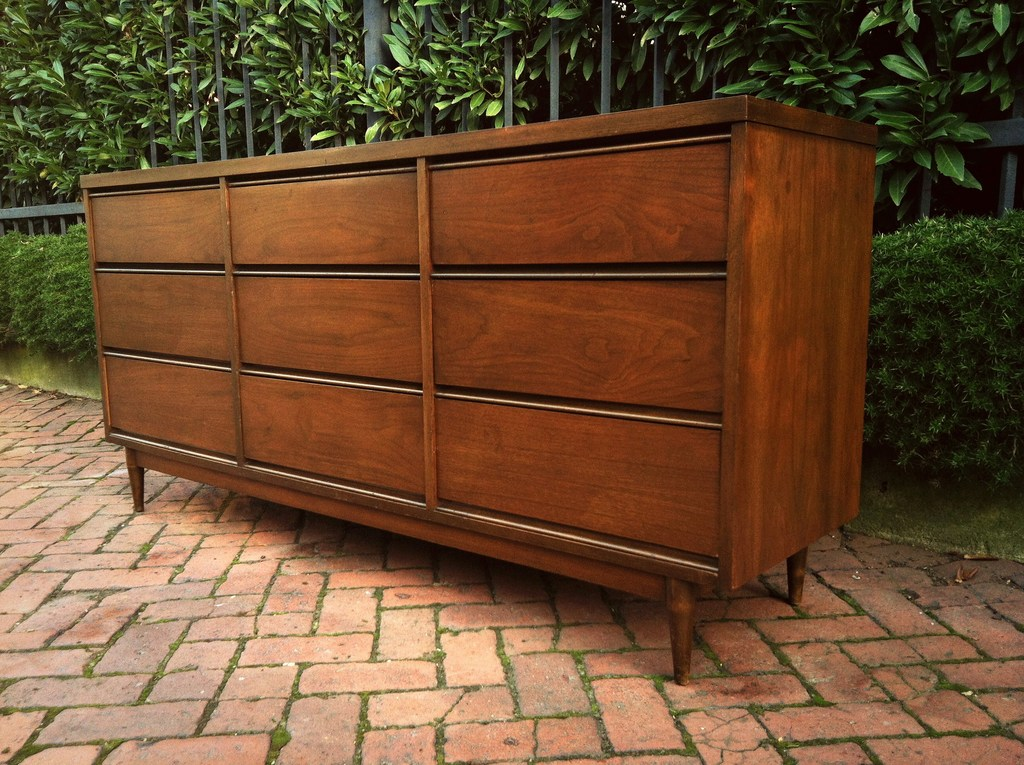cabinet door: (443, 396, 726, 536), (435, 286, 726, 401), (432, 161, 725, 261), (242, 375, 430, 463), (247, 283, 416, 359), (234, 187, 423, 254), (105, 358, 238, 443), (96, 271, 232, 346), (90, 183, 222, 257)
handle: (426, 258, 737, 302), (435, 390, 725, 437), (234, 253, 427, 293), (244, 359, 413, 399), (422, 132, 729, 151), (105, 346, 232, 378), (100, 259, 229, 288), (225, 169, 417, 187), (82, 183, 217, 194)
